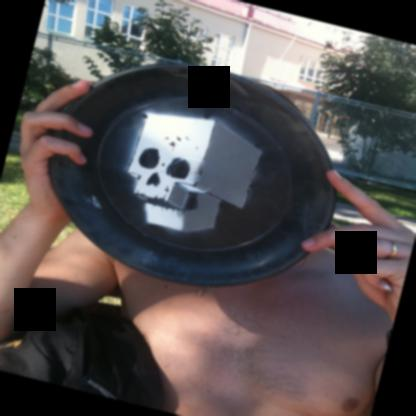backpack: (0, 311, 161, 411)
